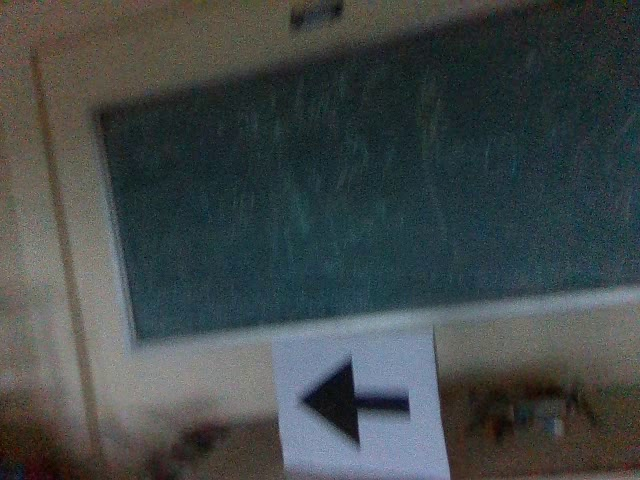Left: (290, 351, 414, 457)
